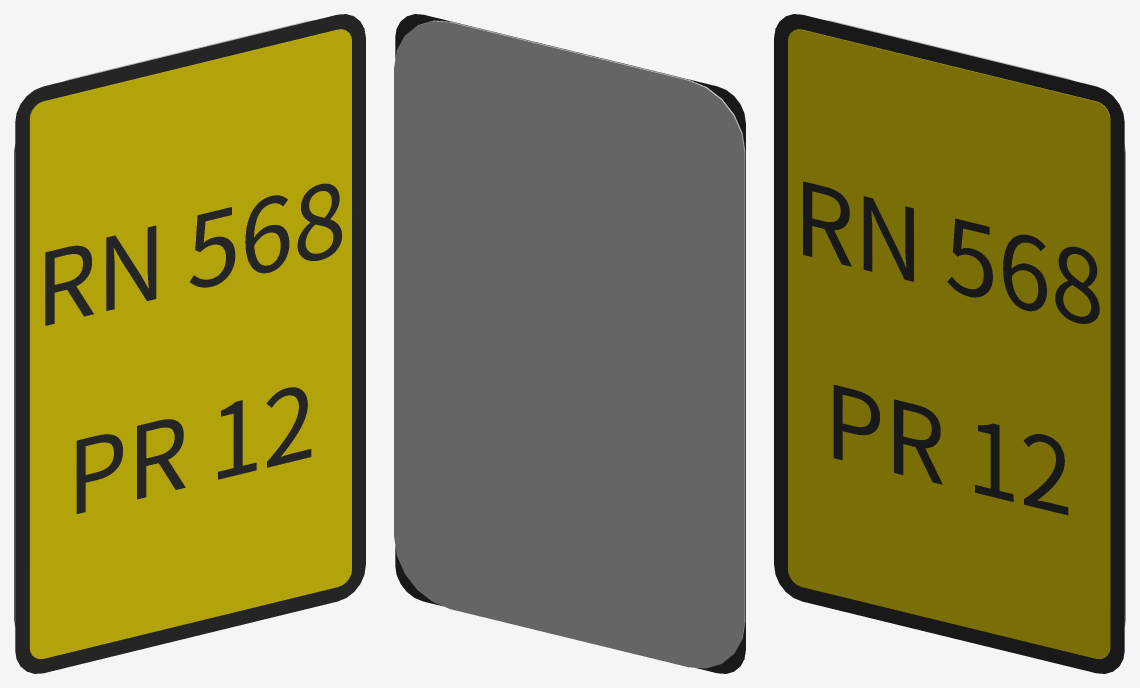
3 renders of one model, left to right at view 1: azimuth 30°, elevation 25°; view 2: azimuth 150°, elevation 25°; view 3: azimuth 330°, elevation 25°, orthographic.
Visible parts, largest first — view 1: E53a_fond01, E53a_cadre00, E53a_txt02, E53a_txt03, E53a_dos; view 2: E53a_dos, E53a_cadre00; view 3: E53a_fond01, E53a_cadre00, E53a_txt02, E53a_txt03, E53a_dos.
Boxes of the visible parts, x1,y1,x2,y2 form: E53a_fond01: (29,29,351,659); E53a_cadre00: (15,14,365,673); E53a_txt02: (45,183,341,325); E53a_txt03: (76,387,311,513); E53a_dos: (14,20,313,626); E53a_dos: (394,20,745,668); E53a_cadre00: (395,14,745,673); E53a_fond01: (788,29,1110,659); E53a_cadre00: (774,14,1124,673); E53a_txt02: (803,181,1099,323); E53a_txt03: (833,384,1068,515); E53a_dos: (826,20,1125,626).
Size of the model in its own units: 0.25 by 0.4 by 0.0029.
